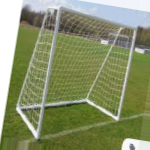goals: (16, 5, 137, 138)
